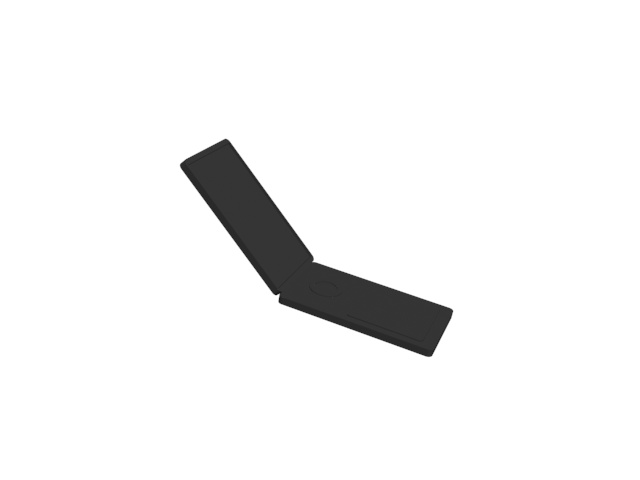mobile_phone: (177, 137, 456, 360)
